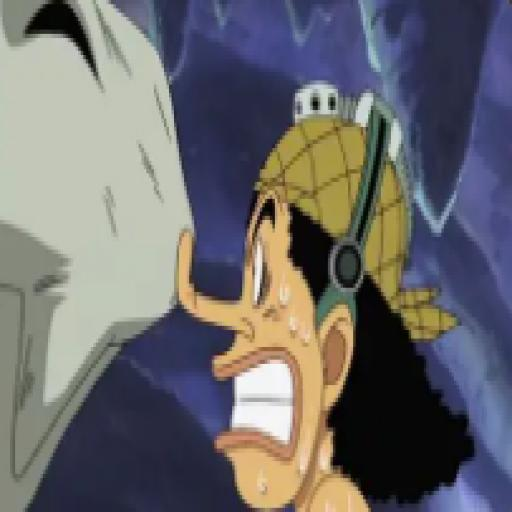Usopp: (169, 79, 479, 512)
